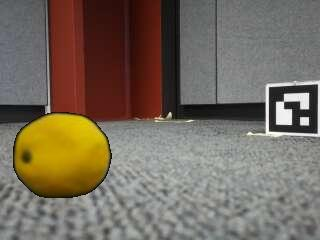lemon: (16, 115, 110, 199)
